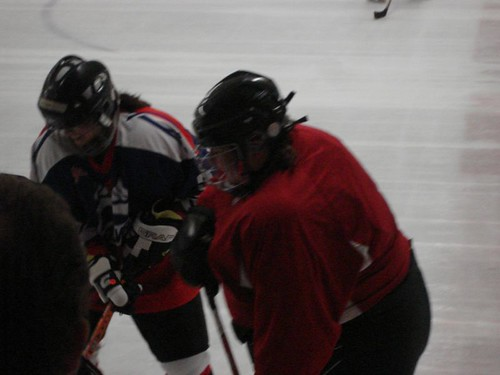helmet: (186, 68, 291, 143), (33, 50, 123, 120)
